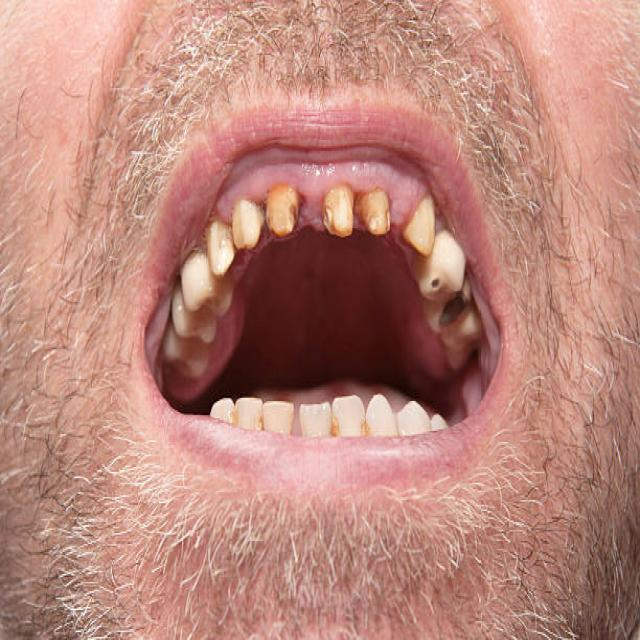caries: (263, 175, 308, 242), (319, 177, 361, 242), (436, 274, 476, 342), (360, 178, 395, 240), (322, 405, 348, 447), (420, 262, 446, 301)
